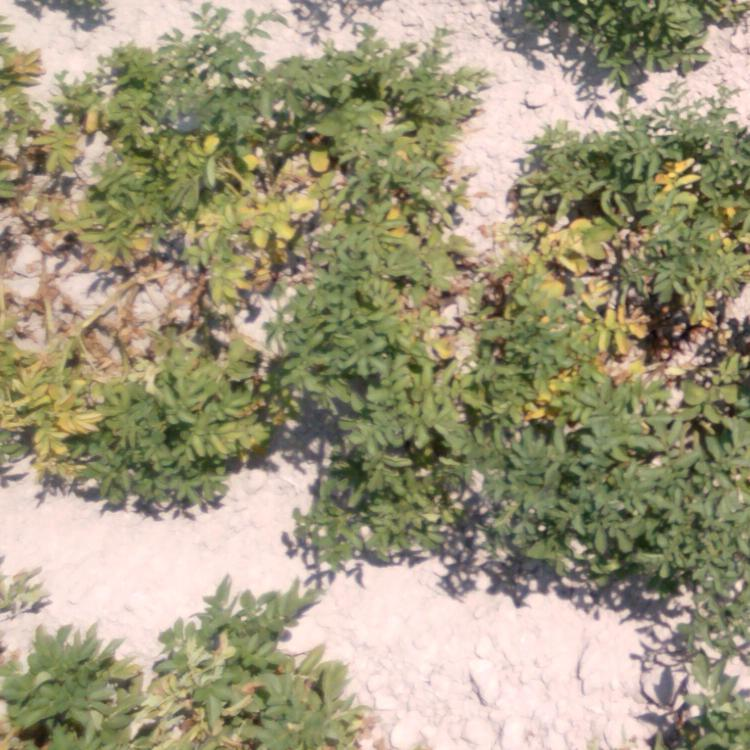healthy: (308, 452, 587, 561), (596, 425, 743, 580), (129, 50, 445, 110), (537, 1, 745, 83), (656, 595, 746, 747), (281, 370, 454, 441)
stressed: (8, 613, 346, 748), (130, 137, 321, 304), (338, 121, 465, 362), (472, 247, 628, 416), (1, 281, 114, 497), (124, 316, 255, 498), (6, 62, 123, 263), (644, 130, 739, 354), (531, 132, 637, 239)
